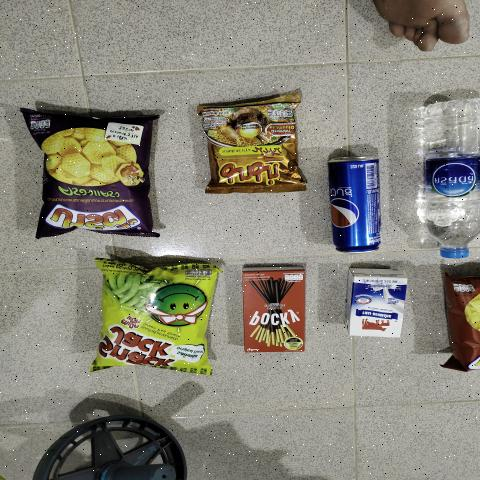crystal: (419, 93, 480, 262)
mama: (210, 104, 294, 192)
party_purple: (44, 124, 145, 232)
pepsi_blue: (331, 143, 380, 253)
pokki: (240, 264, 309, 354)
snack_jack: (82, 267, 223, 373)
thai_denmark: (343, 268, 403, 336)
